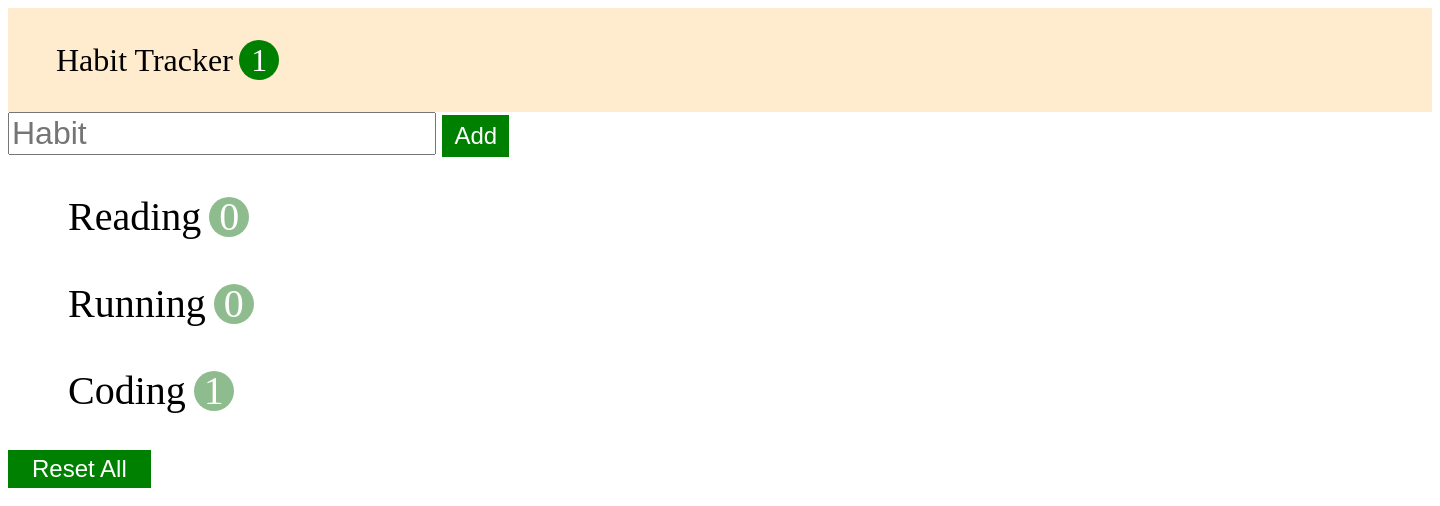
App › Component › 리셋 버튼 클릭 시 전체 habit 아이템 count 0 초기화 테스트
The image size is (1440, 506).
Click the button "Reset All" at x=79, y=469, box [8, 450, 151, 488]
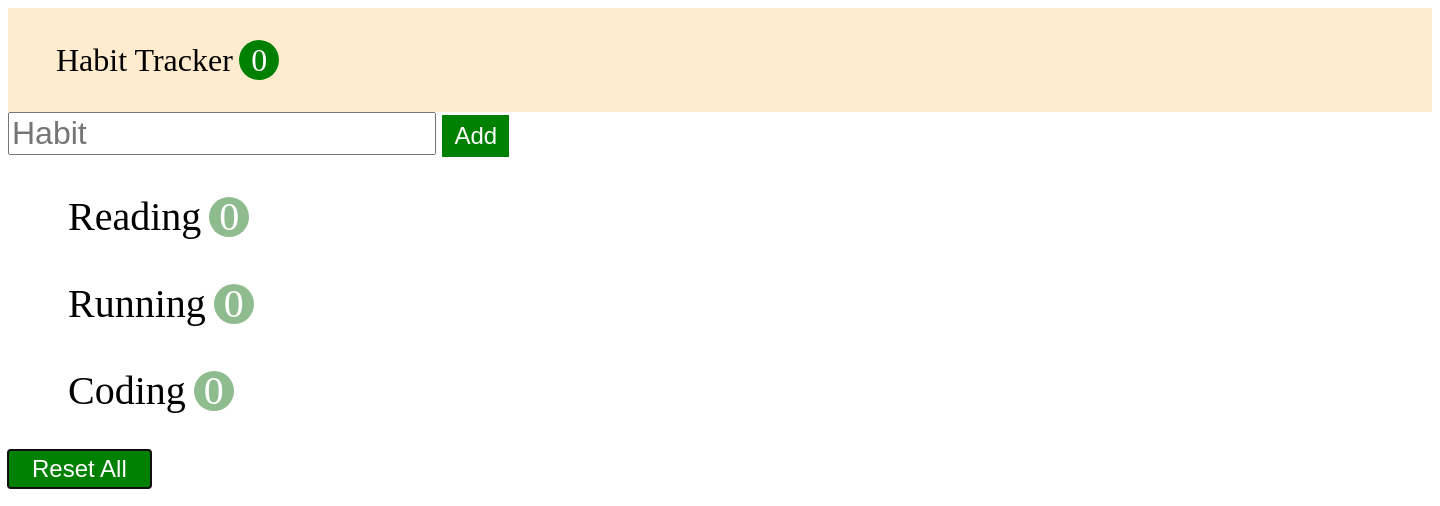
Expected: the text with test id "habit-count" next to "Reading" reads "0", [219, 194, 239, 239]
Result: the text with test id "habit-count" next to "Coding" reads "0" at [204, 368, 224, 413]
